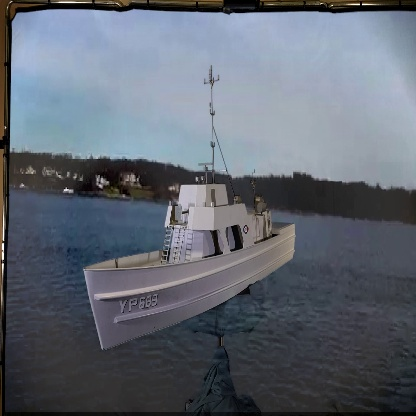YP689: (78, 63, 297, 354)
